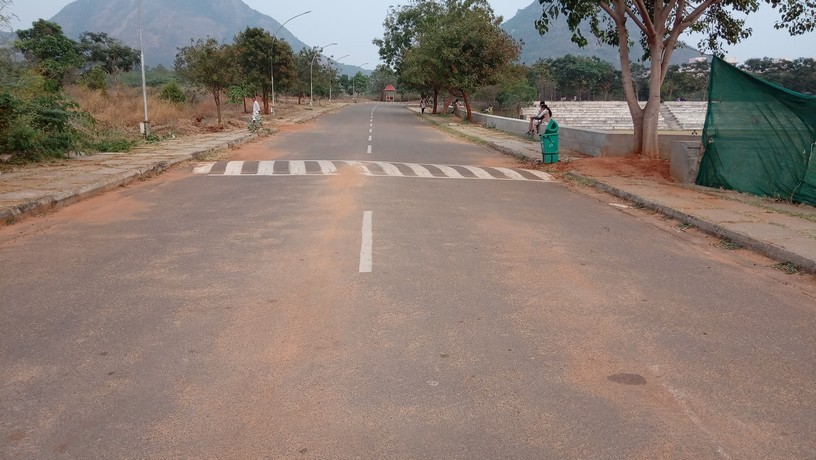bump: (185, 159, 564, 182)
